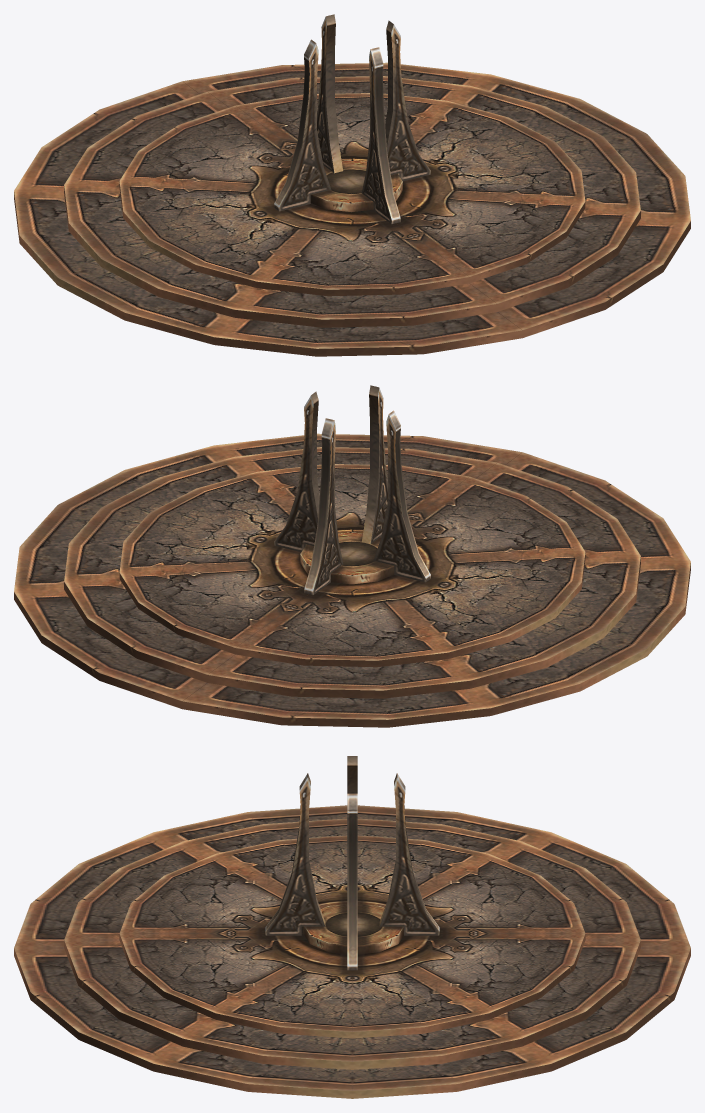
The picture shows the model from 3 angles, top to bottom: view 1: azimuth 30°, elevation 25°; view 2: azimuth 150°, elevation 25°; view 3: azimuth 270°, elevation 25°; orthographic projection.
Visible parts, largest first — view 1: object62; view 2: object62; view 3: object62.
Part boxes in pixels (x1,y1,x2,y2): object62: (14,14,690,356); object62: (14,385,690,727); object62: (14,756,690,1098).
Size of the model in its own units: 540 by 159 by 540.
Materials: 1 (1 with a texture image).
